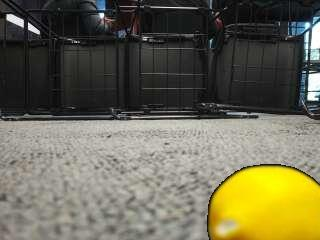lemon: (208, 166, 320, 240)
